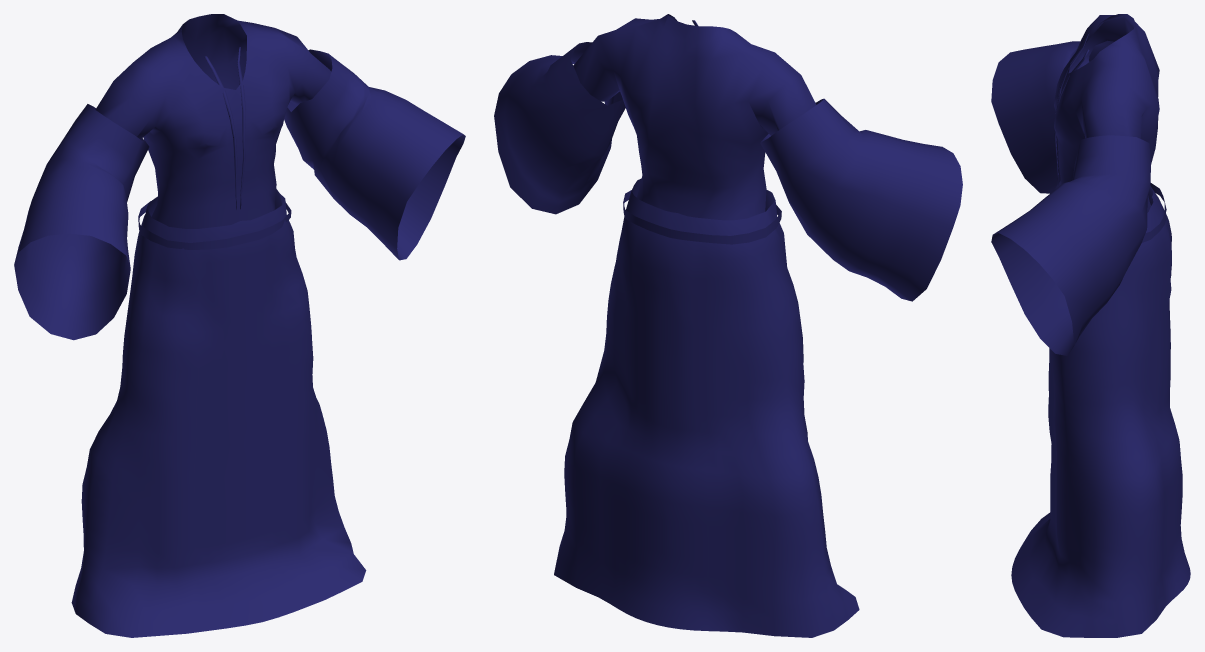
The model's file is wizard_robe.glb.
The picture shows the model from 3 angles, left to right: view 1: azimuth 30°, elevation 25°; view 2: azimuth 150°, elevation 25°; view 3: azimuth 270°, elevation 25°; orthographic projection. The views are drawn at different scales.
Visible parts, largest first — view 1: wizard_robe; view 2: wizard_robe; view 3: wizard_robe.
Part boxes in pixels (x1,y1,x2,y2): wizard_robe: (14, 14, 465, 637); wizard_robe: (494, 14, 962, 637); wizard_robe: (991, 14, 1190, 637).
Size of the model in its own units: 1.25 by 1.51 by 0.4933.
